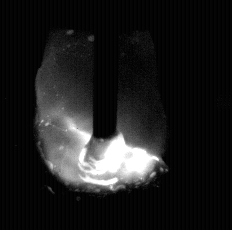arame: (94, 0, 118, 143)
poca: (38, 0, 166, 230)
